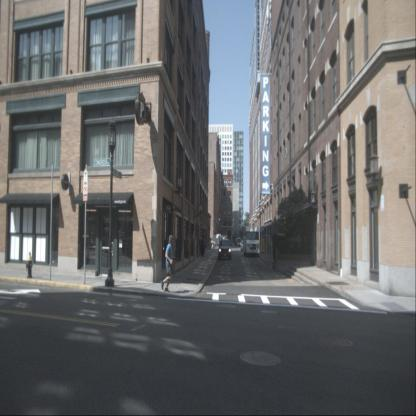human-pedestrian-adult: (161, 235, 175, 292), (200, 235, 205, 256), (200, 234, 203, 258)
vehicle-car: (218, 239, 232, 260), (202, 238, 217, 249), (241, 240, 247, 251), (236, 238, 242, 247)
vehicle-truck: (243, 225, 260, 258)
